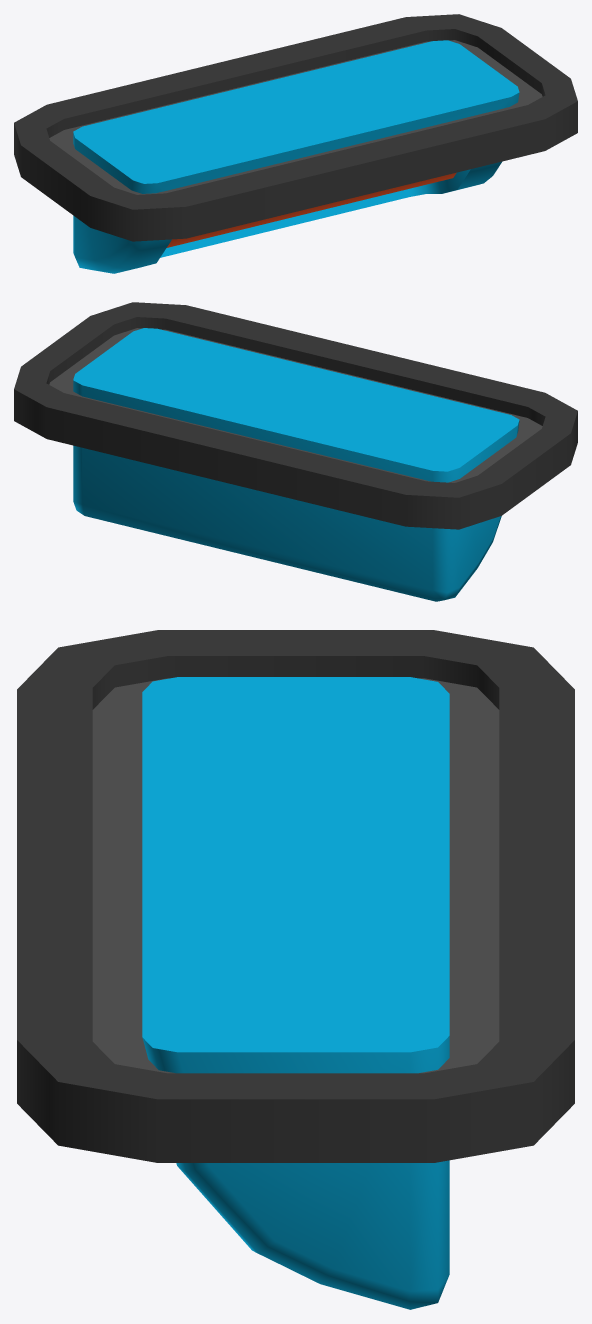
Rendered from Conveyor_Belt_Stop.fbx.
3 views of the same model, one above another, from view 1: azimuth 30°, elevation 25°; view 2: azimuth 150°, elevation 25°; view 3: azimuth 270°, elevation 25° (orthographic). The views are drawn at different scales.
Visible parts, largest first — view 1: Conveyor_Belt_Stop, Conveyor_Belt_Stop_I; view 2: Conveyor_Belt_Stop_I, Conveyor_Belt_Stop; view 3: Conveyor_Belt_Stop, Conveyor_Belt_Stop_I.
Part boxes in pixels (left/top/right/bottom): Conveyor_Belt_Stop: left=14, top=14, right=577, bottom=241; Conveyor_Belt_Stop_I: left=73, top=40, right=519, bottom=273; Conveyor_Belt_Stop_I: left=73, top=328, right=519, bottom=601; Conveyor_Belt_Stop: left=14, top=302, right=577, bottom=529; Conveyor_Belt_Stop: left=17, top=630, right=574, bottom=1162; Conveyor_Belt_Stop_I: left=142, top=677, right=449, bottom=1309.
Size of the model in its own units: 69.31 by 18.69 by 34.83.
